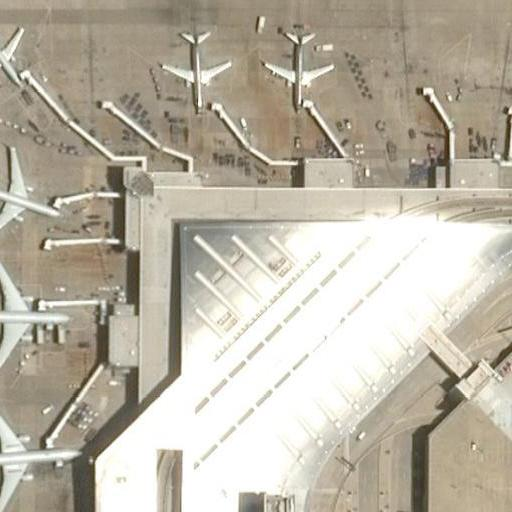Aircraft: (0, 384, 85, 509), (0, 245, 74, 383), (255, 14, 340, 116), (159, 22, 233, 113), (0, 141, 61, 241), (0, 1, 35, 91)
